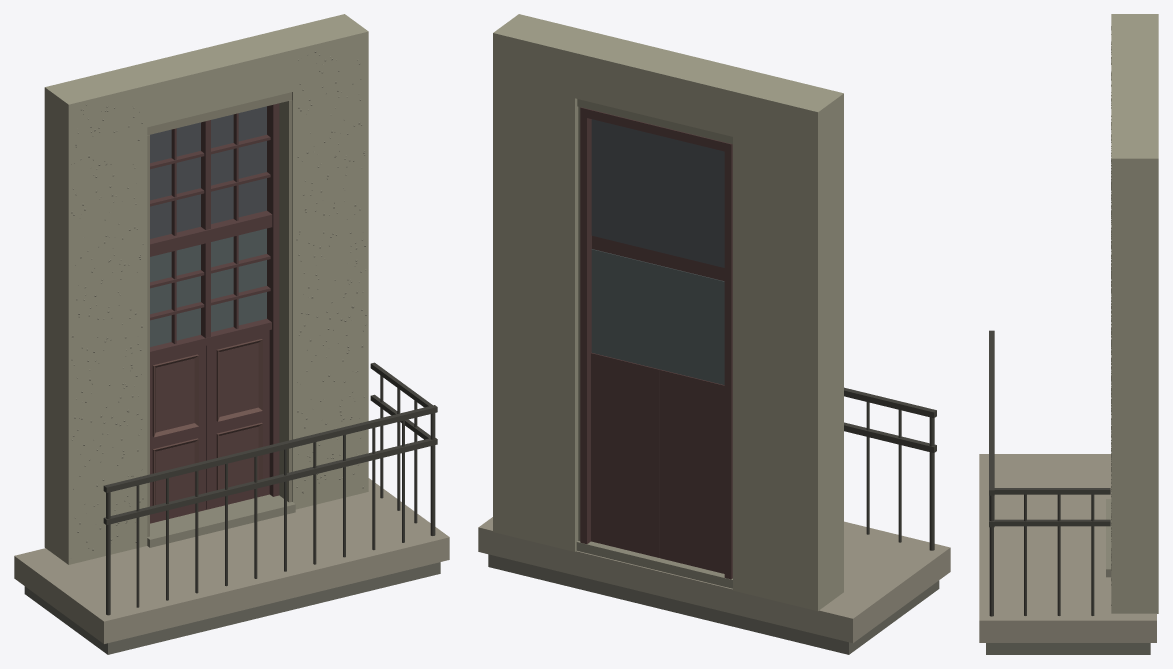
File: huangpu-fuxing-599-glazed-balcony-door-web.glb
3 views of the same model, side by side, from view 1: azimuth 30°, elevation 25°; view 2: azimuth 150°, elevation 25°; view 3: azimuth 270°, elevation 25° (orthographic). The views are drawn at different scales.
Parts seen in each view (by area): view 1: 复兴中路599号住宅二层格窗阳台门与细铁栏; view 2: 复兴中路599号住宅二层格窗阳台门与细铁栏; view 3: 复兴中路599号住宅二层格窗阳台门与细铁栏.
Part boxes in pixels (x1,y1,x2,y2): 复兴中路599号住宅二层格窗阳台门与细铁栏: (14,14,449,654); 复兴中路599号住宅二层格窗阳台门与细铁栏: (478,14,950,654); 复兴中路599号住宅二层格窗阳台门与细铁栏: (979,14,1158,654).
Bounding box in the file's own units: 2.42 × 3.33 × 1.1.
